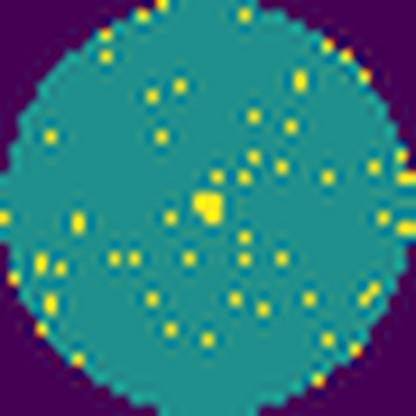Center: (181, 182, 234, 233)
